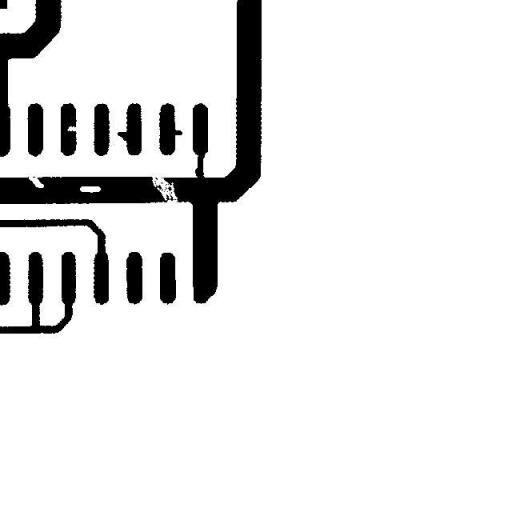mousebite: (21, 168, 51, 195), (60, 118, 86, 138)
open: (142, 165, 185, 210)
pin-hole: (72, 178, 108, 200)
short: (187, 145, 213, 190)
spur: (110, 124, 136, 148), (164, 122, 190, 142)
